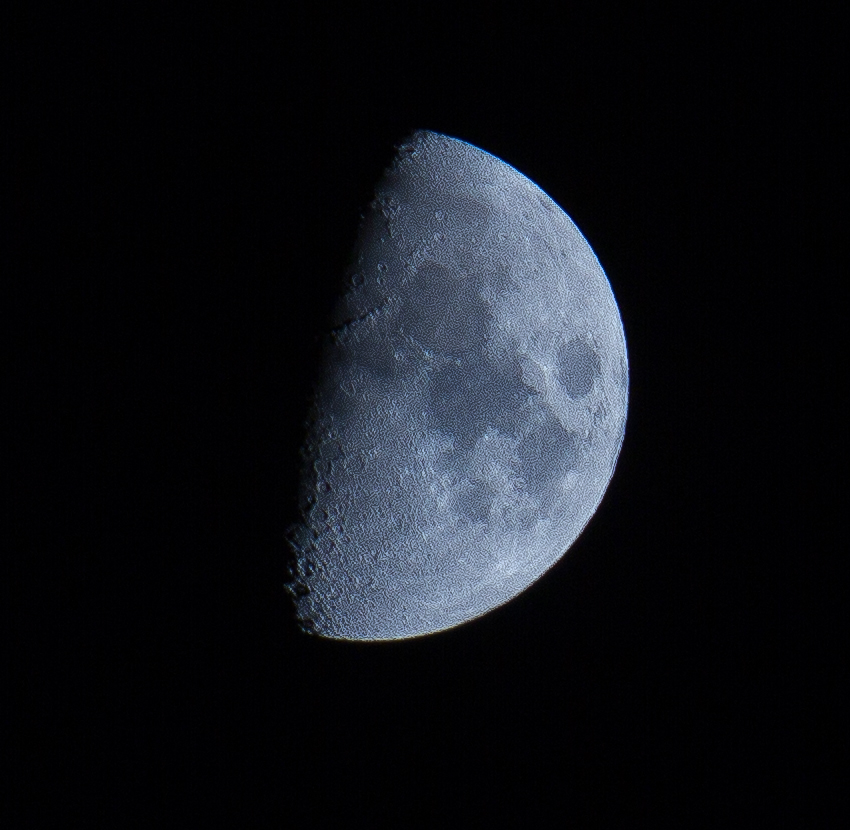crater: (342, 445, 374, 479), (315, 433, 348, 460), (430, 203, 457, 229), (430, 225, 455, 245), (351, 267, 370, 290), (374, 257, 393, 275)
